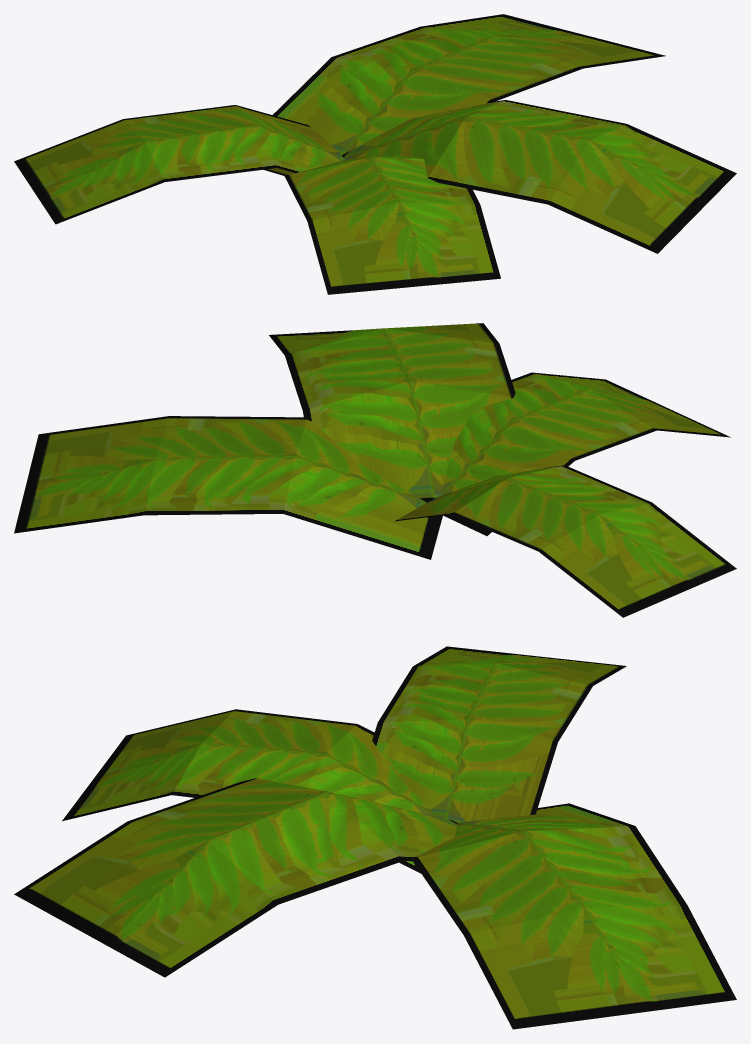
The model's file is FernLeafSprout3.fbx.
3 renders of one model, top to bottom at view 1: azimuth 30°, elevation 25°; view 2: azimuth 150°, elevation 25°; view 3: azimuth 270°, elevation 25°, orthographic. The views are drawn at different scales.
Visible parts, largest first — view 1: FernLeafSprout3; view 2: FernLeafSprout3; view 3: FernLeafSprout3.
Part boxes in pixels (x1=…): FernLeafSprout3: x1=14, y1=14, x2=736, y2=294; FernLeafSprout3: x1=14, y1=323, x2=736, y2=617; FernLeafSprout3: x1=14, y1=646, x2=736, y2=1029.
Bounding box in the file's own units: 249 × 26.73 × 203.
